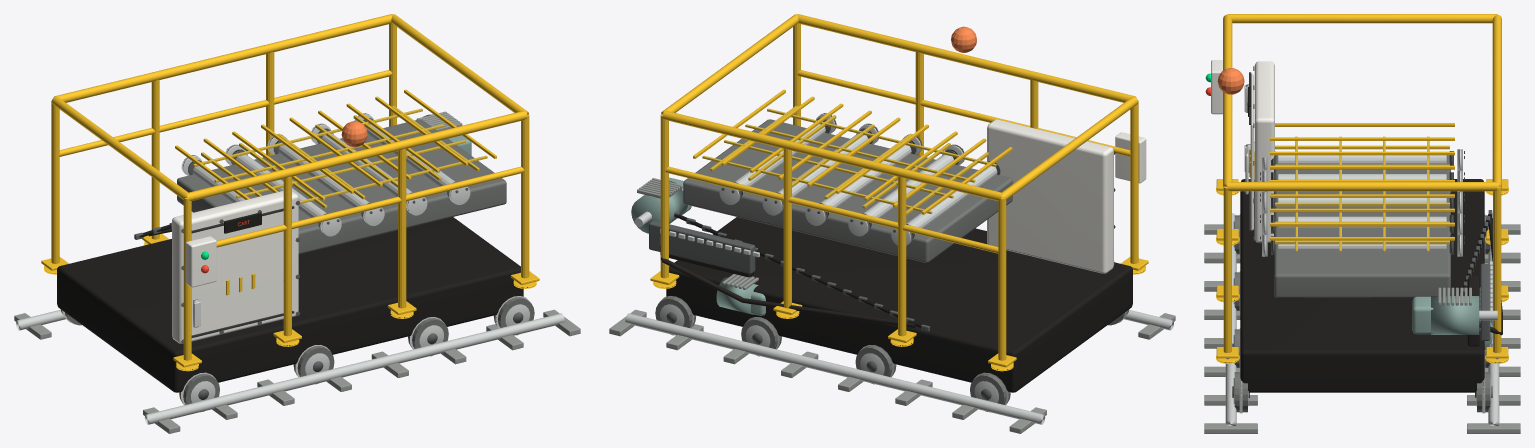
File: photo_transfer_cart_v3.glb
3 views of the same model, side by side, from view 1: azimuth 30°, elevation 25°; view 2: azimuth 150°, elevation 25°; view 3: azimuth 270°, elevation 25° (orthographic). The views are drawn at different scales.
Visible parts, largest first — view 1: cart_black_base_frame, cart_roller_bed_frame, cart_v3_front_electrical_box_cabinet_door_panel, cart_track_reference_-0.8, cart_light_front_panel, cart_yellow_top_guard_-0.8, cart_yellow_top_guard_0.8, cart_yellow_mid_guard_0.8, cart_yellow_mid_guard_-0.8, cart_yellow_front_guard_top, cart_yellow_rear_guard_top, cart_yellow_guard_post_1.2_-0.8 (+17 smaller); view 2: cart_black_base_frame, cart_light_front_panel, cart_roller_bed_frame, cart_track_reference_0.8, cart_yellow_top_guard_0.8, cart_yellow_top_guard_-0.8, cart_v3_drive_chain_cover_lid, cart_yellow_mid_guard_0.8, cart_yellow_mid_guard_-0.8, cart_yellow_front_guard_top, cart_yellow_rear_guard_top, cart_yellow_guard_post_-1.2_0.8 (+21 smaller); view 3: cart_black_base_frame, cart_roller_bed_frame, cart_light_front_panel, cart_yellow_rear_guard_top, cart_yellow_front_guard_top, cart_side_drive_motor_motor_body, cart_yellow_top_guard_0.8, cart_live_roller_01, cart_live_roller_04, cart_yellow_guard_post_1.2_-0.8, cart_yellow_top_guard_-0.8, cart_yellow_guard_post_1.2_0.8 (+31 smaller).
Part boxes in pixels (box(x1,y1,x2,y2)): cart_black_base_frame: box(57, 217, 523, 392); cart_roller_bed_frame: box(177, 119, 506, 254); cart_v3_front_electrical_box_cabinet_door_panel: box(191, 209, 292, 335); cart_track_reference_-0.8: box(144, 313, 564, 424); cart_light_front_panel: box(172, 190, 298, 343); cart_yellow_top_guard_-0.8: box(187, 111, 527, 200); cart_yellow_top_guard_0.8: box(53, 14, 392, 102); cart_yellow_mid_guard_0.8: box(59, 70, 392, 156); cart_yellow_mid_guard_-0.8: box(216, 166, 524, 247); cart_yellow_front_guard_top: box(51, 96, 188, 199); cart_yellow_rear_guard_top: box(391, 14, 528, 114); cart_yellow_guard_post_1.2_-0.8: box(521, 114, 529, 278); cart_black_base_frame: box(666, 217, 1132, 392); cart_light_front_panel: box(987, 119, 1113, 273); cart_roller_bed_frame: box(683, 119, 1012, 262); cart_track_reference_0.8: box(625, 313, 1045, 424); cart_yellow_top_guard_0.8: box(662, 111, 1002, 200); cart_yellow_top_guard_-0.8: box(797, 14, 1136, 102); cart_v3_drive_chain_cover_lid: box(649, 220, 755, 273); cart_yellow_mid_guard_0.8: box(665, 166, 998, 253); cart_yellow_mid_guard_-0.8: box(797, 70, 1130, 156); cart_yellow_front_guard_top: box(1001, 96, 1138, 199); cart_yellow_rear_guard_top: box(661, 14, 798, 114); cart_yellow_guard_post_-1.2_0.8: box(998, 197, 1006, 360); cart_black_base_frame: box(1240, 179, 1484, 392); cart_roller_bed_frame: box(1274, 155, 1450, 297); cart_light_front_panel: box(1254, 61, 1274, 242); cart_yellow_rear_guard_top: box(1227, 182, 1497, 191); cart_yellow_front_guard_top: box(1228, 14, 1496, 23); cart_side_drive_motor_motor_body: box(1431, 296, 1479, 334); cart_yellow_top_guard_0.8: box(1492, 14, 1501, 187); cart_live_roller_01: box(1278, 155, 1446, 164); cart_live_roller_04: box(1278, 216, 1446, 229); cart_yellow_guard_post_1.2_-0.8: box(1223, 186, 1231, 352); cart_yellow_top_guard_-0.8: box(1223, 14, 1232, 187); cart_yellow_guard_post_1.2_0.8: box(1493, 186, 1501, 352).
Size of the model in its own units: 2.94 by 1.71 by 1.88.
